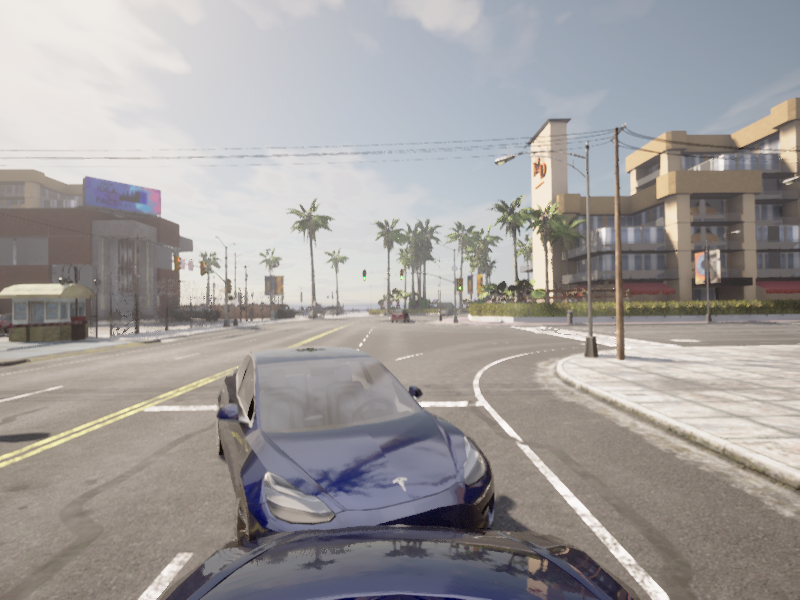vehicle: (389, 309, 410, 323)
